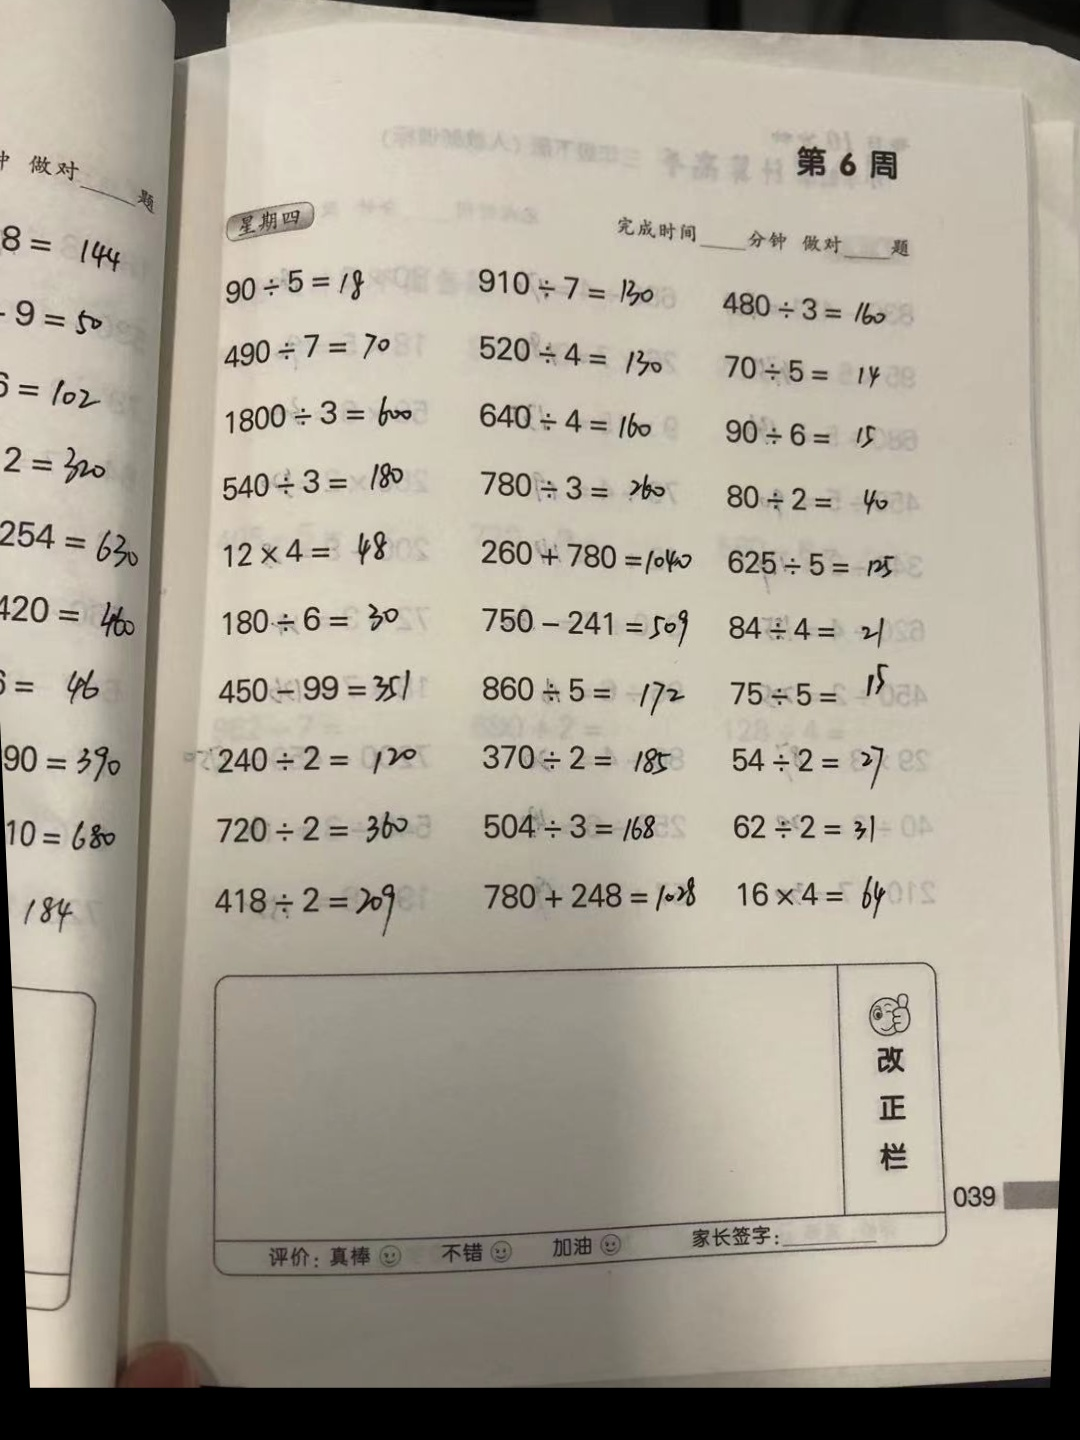equation: (478, 597, 721, 651), (473, 525, 709, 580), (189, 460, 457, 508), (462, 249, 674, 309), (195, 877, 422, 931), (471, 396, 685, 451), (458, 326, 688, 377), (725, 655, 907, 716), (213, 395, 454, 441), (485, 871, 713, 919), (190, 667, 427, 712), (476, 737, 686, 787), (463, 672, 705, 715), (714, 474, 914, 526), (216, 525, 418, 576), (709, 345, 906, 396), (717, 804, 914, 855), (476, 804, 679, 852), (468, 469, 697, 511), (207, 591, 421, 635), (704, 276, 887, 327), (721, 738, 915, 786), (726, 605, 918, 653), (206, 327, 410, 372), (207, 261, 382, 313), (719, 539, 929, 582), (201, 801, 423, 841), (708, 413, 902, 458), (727, 871, 899, 921), (197, 741, 421, 777)
